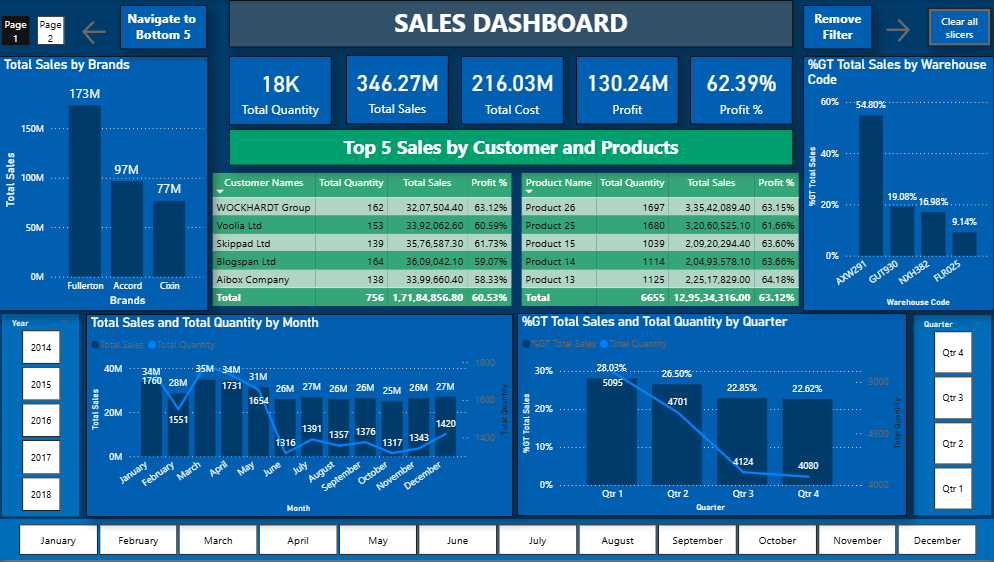

What the dashboard file says about the page in this screenshot:
{"tool":"powerbi","page":{"name":"Page 1","canvas":[1280,720],"ordinal":0},"visuals":[{"type":"textbox","box":[295.7,0,724.6,61.3],"z":0},{"type":"actionButton","box":[1193.4,10.7,81.2,49.3],"z":1000},{"type":"card","fields":{"Values":["Customer_Data.Total Sales"]},"box":[446.2,70.6,131.9,89.2],"z":2000},{"type":"card","fields":{"Values":["Customer_Data.Total Cost"]},"box":[594,71.9,131.9,87.9],"z":3000},{"type":"card","fields":{"Values":["Customer_Data.Profit"]},"box":[741.9,71.9,131.9,87.9],"z":4000},{"type":"card","fields":{"Values":["Customer_Data.Profit %"]},"box":[888.4,71.9,131.9,87.9],"z":5000},{"type":"card","fields":{"Values":["Customer_Data.Total Quantity"]},"box":[295.7,71.9,131.9,89.2],"z":6000},{"type":"slicer","fields":{"Values":["Sales_Data.OrderDate.Variation.Date Hierarchy.Year"]},"box":[4,403.6,98.6,259.7],"z":7000},{"type":"tableEx","fields":{"Values":["Products_Data.Product Name","Customer_Data.Total Quantity","Customer_Data.Total Sales","Customer_Data.Profit %"]},"box":[666,217.1,367.6,182.5],"z":8000},{"type":"tableEx","fields":{"Values":["Customer_Data.Customer Names","Customer_Data.Total Quantity","Customer_Data.Total Sales","Customer_Data.Profit %"]},"box":[269.1,217.1,396.9,182.5],"z":9000},{"type":"lineStackedColumnComboChart","fields":{"Category":["Sales_Data.Brands"],"Y":["Customer_Data.Total Sales"]},"box":[0,71.9,269.1,327.7],"z":10000},{"type":"slicer","fields":{"Values":["Sales_Data.OrderDate.Variation.Date Hierarchy.Quarter"]},"box":[1176.1,404.9,98.6,257.1],"z":11000},{"type":"slicer","fields":{"Values":["Sales_Data.OrderDate.Variation.Date Hierarchy.Month"]},"box":[0,667.3,1280,53.3],"z":12000},{"type":"clusteredColumnChart","fields":{"Category":["Sales_Data.Warehouse Code"],"Y":["Customer_Data.Total Sales"]},"box":[1033.6,71.9,246.4,327.7],"z":13000},{"type":"textbox","box":[295.7,165.2,724.6,46.6],"z":14000},{"type":"lineStackedColumnComboChart","fields":{"Y":["Customer_Data.Total Sales"],"Y2":["Customer_Data.Total Quantity"],"Category":["Sales_Data.OrderDate.Variation.Date Hierarchy.Month"]},"box":[111.9,403.6,548.8,261.1],"z":15000},{"type":"lineStackedColumnComboChart","fields":{"Y":["Customer_Data.Total Sales"],"Y2":["Customer_Data.Total Quantity"],"Category":["Sales_Data.OrderDate.Variation.Date Hierarchy.Quarter"]},"box":[666,402.2,500.8,261.1],"z":16000},{"type":"pageNavigator","box":[4,20,81.2,37.3],"z":17000},{"type":"textbox","box":[155.8,6.7,111.9,57.3],"z":18000},{"type":"actionButton","box":[102.6,21.3,44,40],"z":19000},{"type":"textbox","box":[1033.6,6.7,89.2,57.3],"z":20000},{"type":"actionButton","box":[1134.8,18.6,45.3,40],"z":21000}]}

Visuals, with their boxes in screenshot pixels (x1, y1, x2, y2), scaled from the page's 1280x720 canvas onto the 994x562 screenshot:
textbox: rect(230, 0, 792, 48)
actionButton: rect(927, 8, 990, 47)
card - Customer_Data.Total Sales: rect(347, 55, 449, 125)
card - Customer_Data.Total Cost: rect(461, 56, 564, 125)
card - Customer_Data.Profit: rect(576, 56, 679, 125)
card - Customer_Data.Profit %: rect(690, 56, 792, 125)
card - Customer_Data.Total Quantity: rect(230, 56, 332, 126)
slicer - Sales_Data.OrderDate.Variation.Date Hierarchy.Year: rect(3, 315, 80, 518)
tableEx - Products_Data.Product Name x Customer_Data.Total Quantity: rect(517, 169, 803, 312)
tableEx - Customer_Data.Customer Names x Customer_Data.Total Quantity: rect(209, 169, 517, 312)
lineStackedColumnComboChart - Sales_Data.Brands x Customer_Data.Total Sales: rect(0, 56, 209, 312)
slicer - Sales_Data.OrderDate.Variation.Date Hierarchy.Quarter: rect(913, 316, 990, 517)
slicer - Sales_Data.OrderDate.Variation.Date Hierarchy.Month: rect(0, 521, 993, 561)
clusteredColumnChart - Sales_Data.Warehouse Code x Customer_Data.Total Sales: rect(803, 56, 993, 312)
textbox: rect(230, 129, 792, 165)
lineStackedColumnComboChart - Customer_Data.Total Sales x Customer_Data.Total Quantity: rect(87, 315, 513, 519)
lineStackedColumnComboChart - Customer_Data.Total Sales x Customer_Data.Total Quantity: rect(517, 314, 906, 518)
pageNavigator: rect(3, 16, 66, 45)
textbox: rect(121, 5, 208, 50)
actionButton: rect(80, 17, 114, 48)
textbox: rect(803, 5, 872, 50)
actionButton: rect(881, 15, 916, 46)
